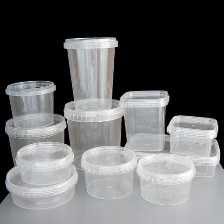plastic_box: (59, 93, 128, 175), (119, 129, 223, 182), (59, 30, 122, 115), (1, 160, 82, 213), (75, 140, 141, 203), (114, 84, 173, 154), (0, 109, 71, 167), (132, 149, 198, 209), (11, 137, 78, 189), (1, 75, 60, 132), (161, 109, 222, 160)
